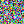cat: (3, 3, 15, 15)
dog: (2, 2, 6, 6)
